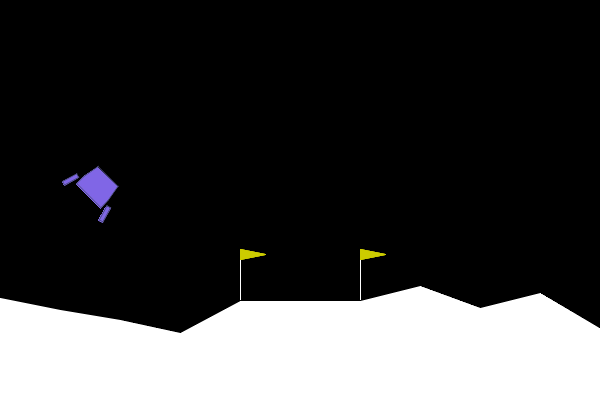lander: (60, 154, 130, 225)
